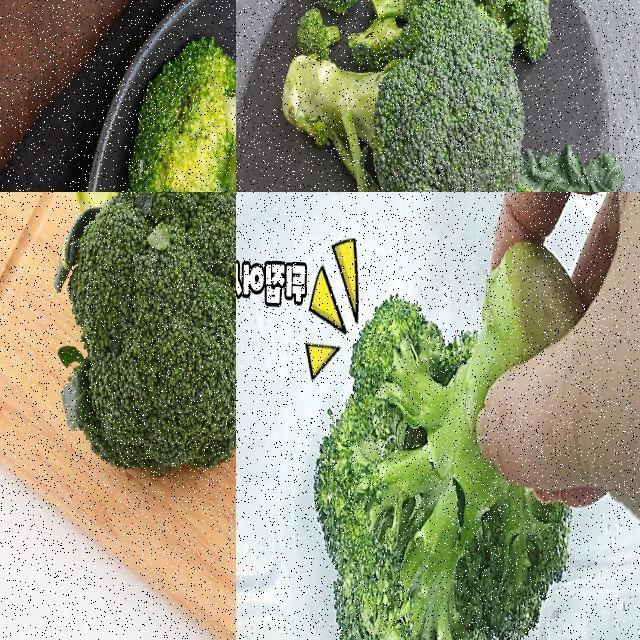broccoli: (311, 235, 590, 639), (48, 192, 235, 484), (254, 0, 524, 191), (123, 37, 235, 191), (438, 0, 550, 61)
